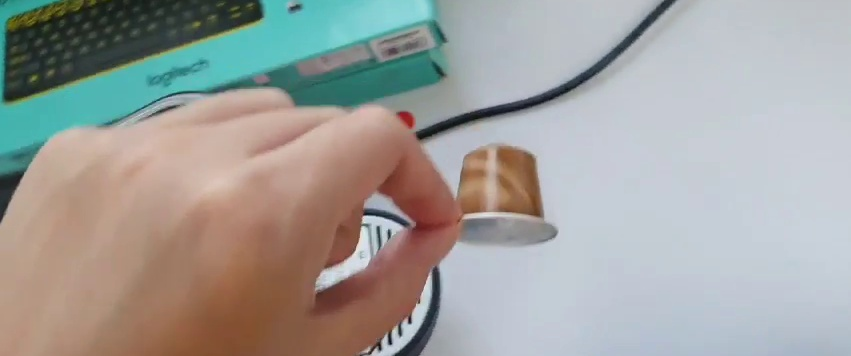capsule_12: (443, 140, 561, 253)
